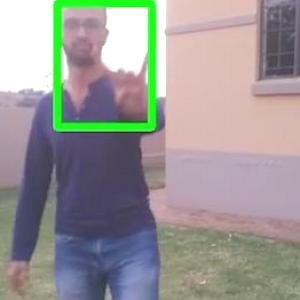takeoff-hand: (84, 38, 163, 127)
